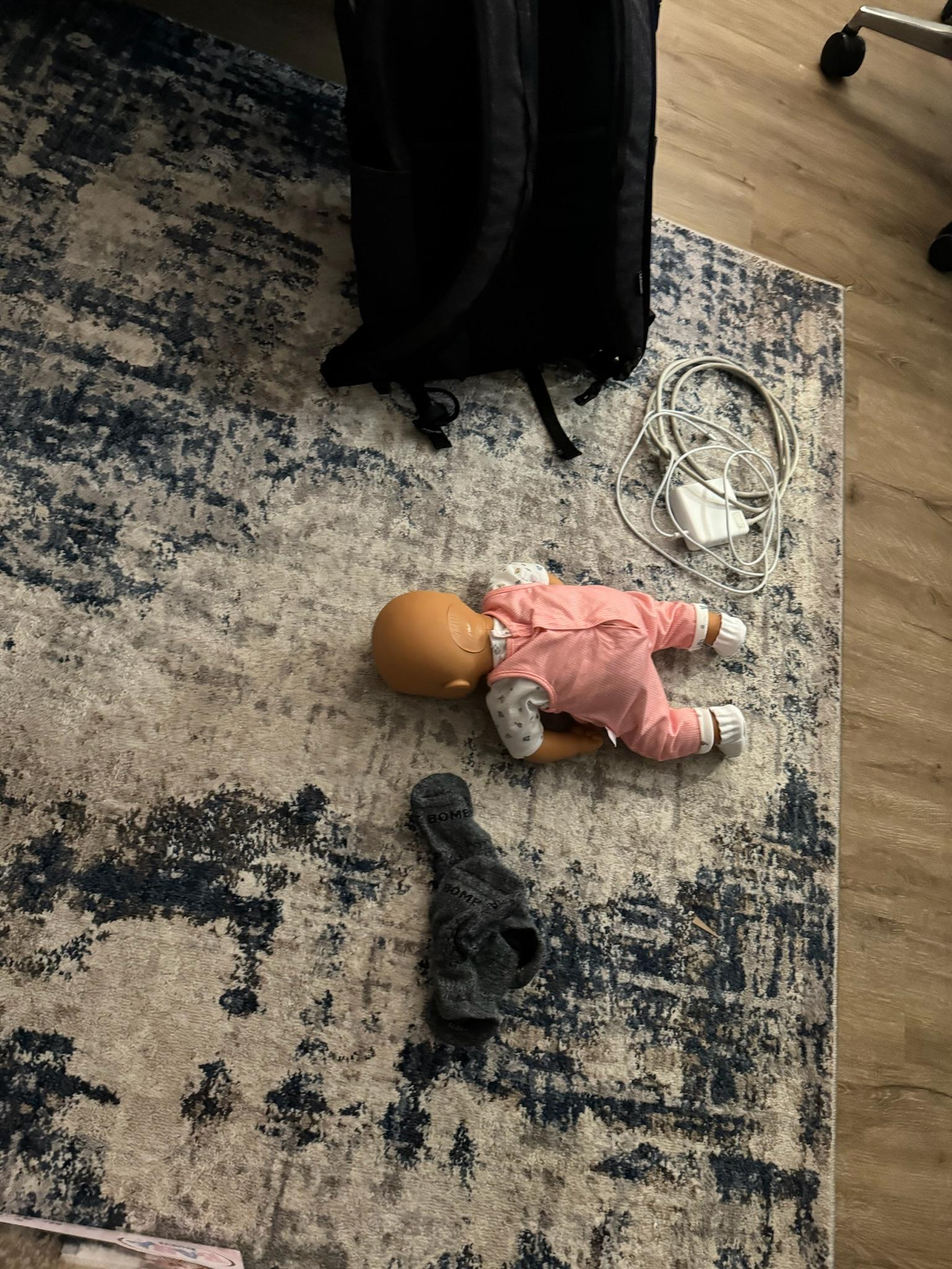baby: (357, 543, 769, 799)
